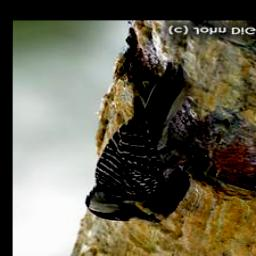Woodpecker: (83, 60, 212, 225)
